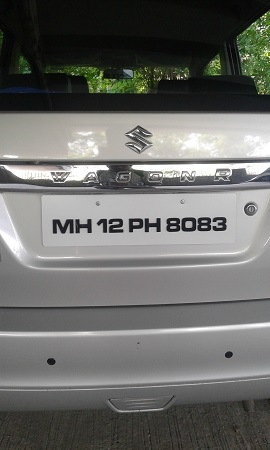licenseplate: (42, 195, 240, 248)
